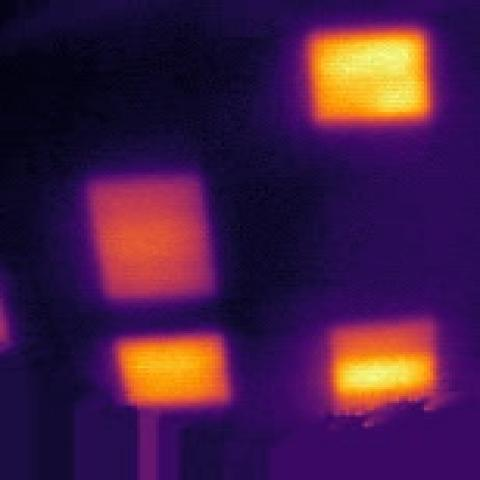fault: (76, 167, 228, 311), (299, 17, 443, 132), (322, 317, 445, 418), (110, 328, 236, 420)
